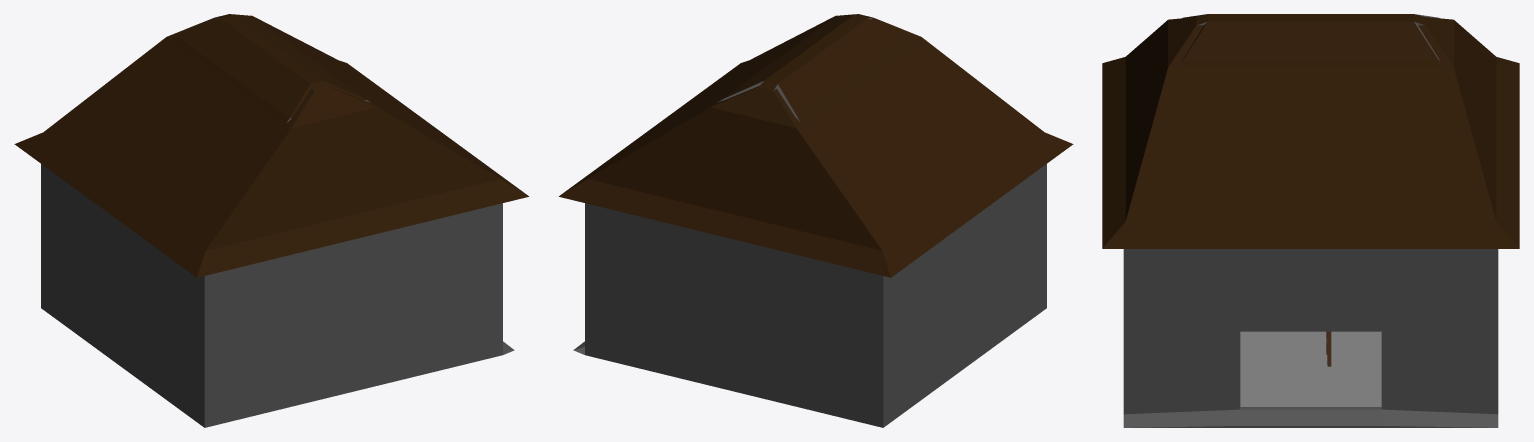
Rendered from garage.fbx.
3 views of the same model, side by side, from view 1: azimuth 30°, elevation 25°; view 2: azimuth 150°, elevation 25°; view 3: azimuth 270°, elevation 25° (orthographic). The views are drawn at different scales.
Visible parts, largest first — view 1: building; view 2: building; view 3: building.
Boxes of the visible parts, box(x1,y1,x2,y2) form: building: box(14, 14, 528, 427); building: box(559, 14, 1073, 427); building: box(1102, 14, 1519, 427).
Size of the model in its own units: 2905 by 2355 by 2762.
